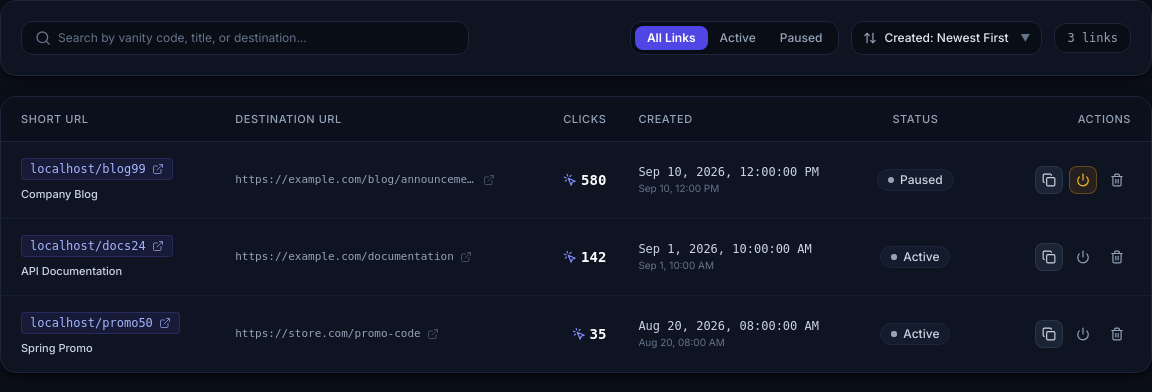
Test: MyLinksView Component Tests › filters URLs by active status
Click the button "Active" at x=738, y=38, box left=708, top=26, right=768, bottom=50
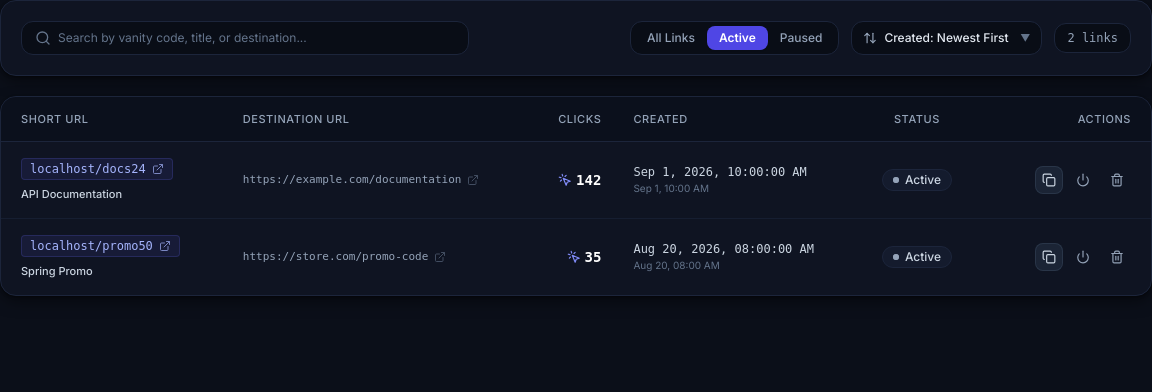
Expected: the text "API Documentation" is shown, left=21, top=187, right=122, bottom=201
Expected: the text "Company Blog" is gone
